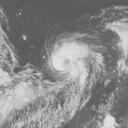cyclone: (47, 36, 97, 84)
